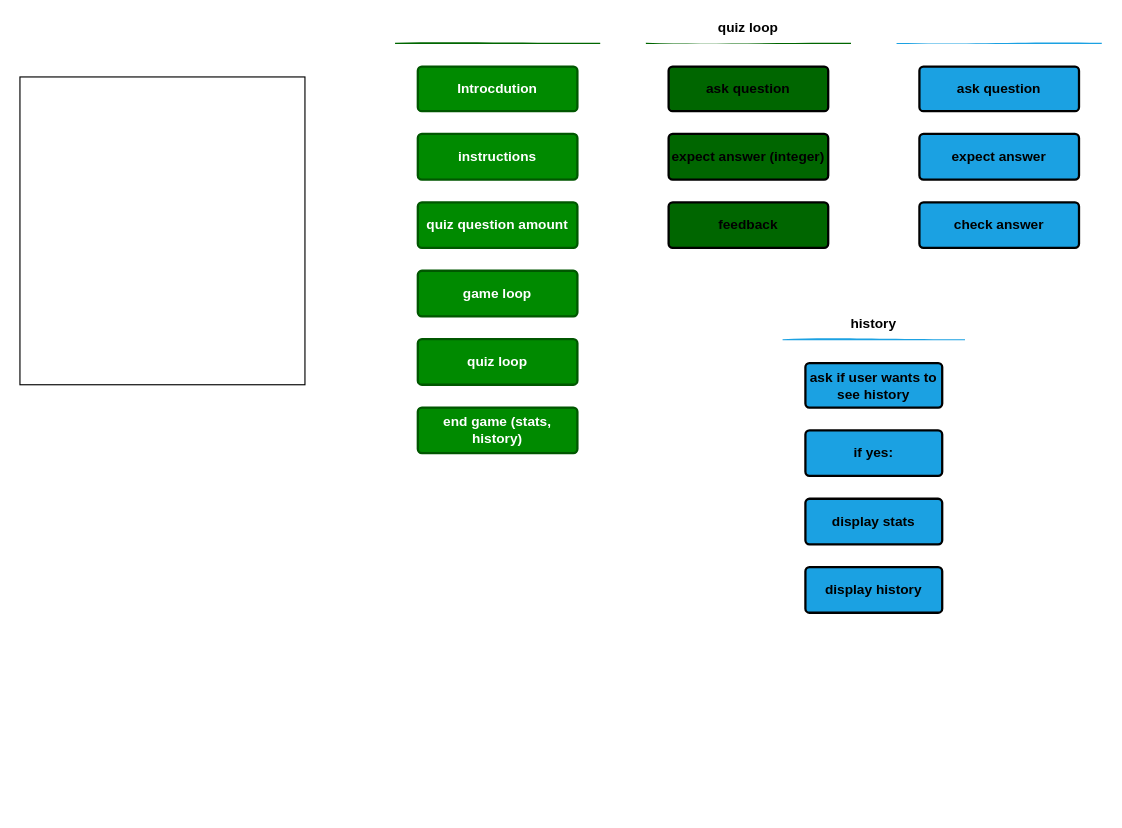
The diagram is 1122 pixels wide and 828 high, and some of its shapes have lost their labels. Each missing label, with the box of its shape:
breakdown: (394, 42, 600, 612)
for each question: (896, 42, 1101, 270)
Quiz ideas linear equations quiz: (19, 76, 305, 385)
